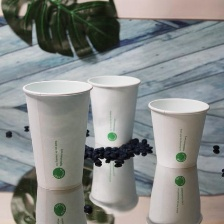paper_cup: (18, 76, 96, 194), (144, 94, 211, 172), (83, 72, 143, 153)
